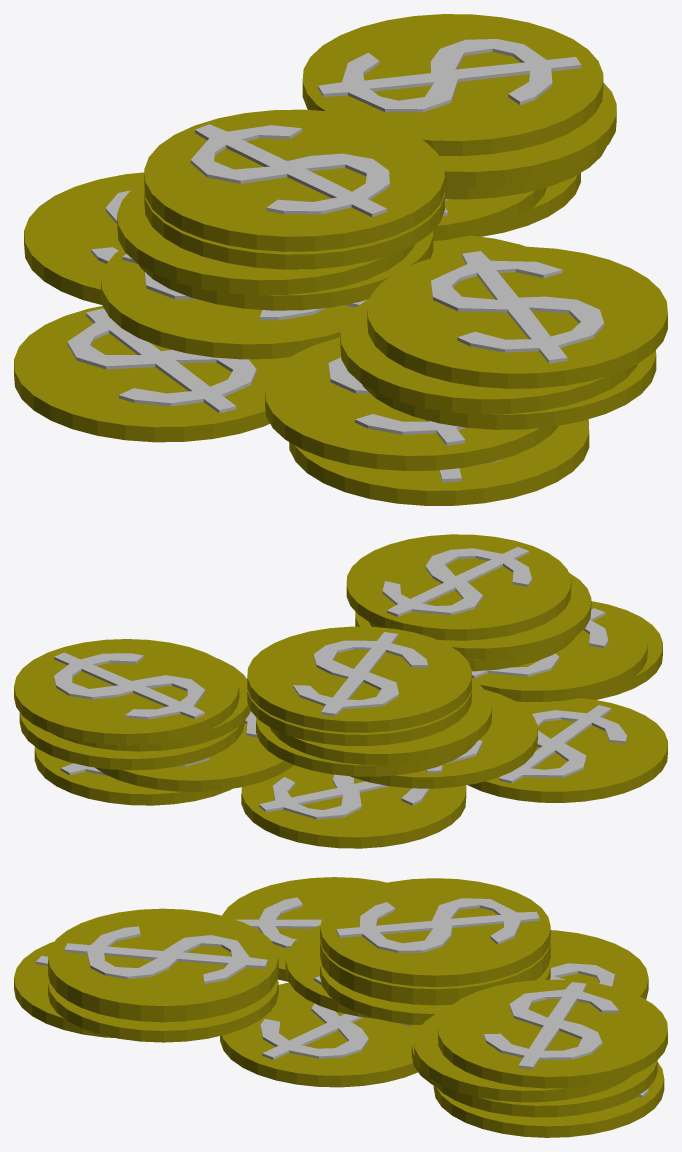
File: Cash ($2.50).glb
3 renders of one model, top to bottom at view 1: azimuth 30°, elevation 25°; view 2: azimuth 150°, elevation 25°; view 3: azimuth 270°, elevation 25°, orthographic. The views are drawn at different scales.
Parts seen in each view (by area): view 1: Coin.017, Coin.010, Coin.016, Coin, Coin.007, Coin.003, Coin.005, Coin.002, Coin.009, Coin.012, Coin.015, Coin.013 (+6 smaller); view 2: Coin.016, Coin.017, Coin.010, Coin, Coin.002, Coin.007, Coin.003, Coin.004, Coin.012, Coin.014, Coin.006, Coin.009 (+5 smaller); view 3: Coin.010, Coin.017, Coin.016, Coin.001, Coin, Coin.006, Coin.008, Coin.002, Coin.015, Coin.014, Coin.013, Coin.005 (+4 smaller).
Boxes of the visible parts, x1,y1,x2,y2 form: Coin.017: (144,109,444,251); Coin.010: (367,246,667,388); Coin.016: (302,14,603,156); Coin: (14,306,290,442); Coin.007: (265,337,558,470); Coin.003: (101,248,366,359); Coin.005: (289,419,589,505); Coin.002: (24,172,144,304); Coin.009: (340,298,637,414); Coin.012: (117,181,414,295); Coin.015: (439,82,616,186); Coin.013: (144,188,444,269); Coin.016: (14,639,239,745); Coin.017: (247,626,471,732); Coin.010: (346,534,571,640); Coin: (468,698,667,802); Coin.002: (241,765,466,848); Coin.007: (472,602,647,701); Coin.003: (350,689,537,788); Coin.004: (95,711,293,791); Coin.012: (270,680,491,765); Coin.014: (19,712,244,770); Coin.006: (34,746,232,805); Coin.009: (369,573,591,659); Coin.010: (48,908,278,1017); Coin.017: (320,878,550,987); Coin.016: (438,979,667,1088); Coin.001: (220,982,421,1087); Coin: (222,877,386,981); Coin.006: (433,1062,664,1137); Coin.008: (48,978,278,1042); Coin.002: (550,930,648,999); Coin.015: (414,1008,632,1102); Coin.014: (430,1060,657,1117); Coin.013: (320,940,550,1000); Coin.005: (14,942,114,1037).
Size of the model in its own units: 0.4041 by 0.0629 by 0.4321.
